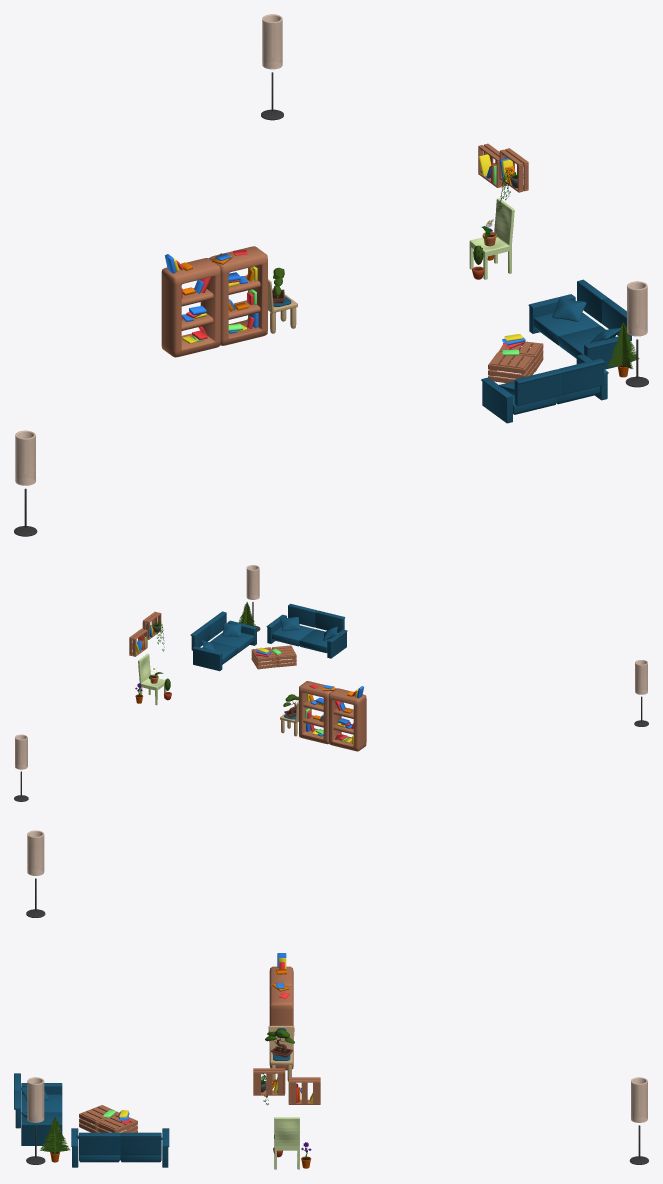
The model's file is LShape Sampleroom - Deko.glb.
3 views of the same model, one above another, from view 1: azimuth 30°, elevation 25°; view 2: azimuth 150°, elevation 25°; view 3: azimuth 270°, elevation 25° (orthographic). The views are drawn at different scales.
Visible parts, largest first — view 1: Deko_L_Shape.001; view 2: Deko_L_Shape.001; view 3: Deko_L_Shape.001.
Part boxes in pixels (bbox=[...]): Deko_L_Shape.001: bbox=[14, 14, 648, 536]; Deko_L_Shape.001: bbox=[14, 565, 648, 801]; Deko_L_Shape.001: bbox=[14, 830, 648, 1169].
Size of the model in its own units: 12.16 by 2.17 by 12.52.
5 materials, 1 textured.
